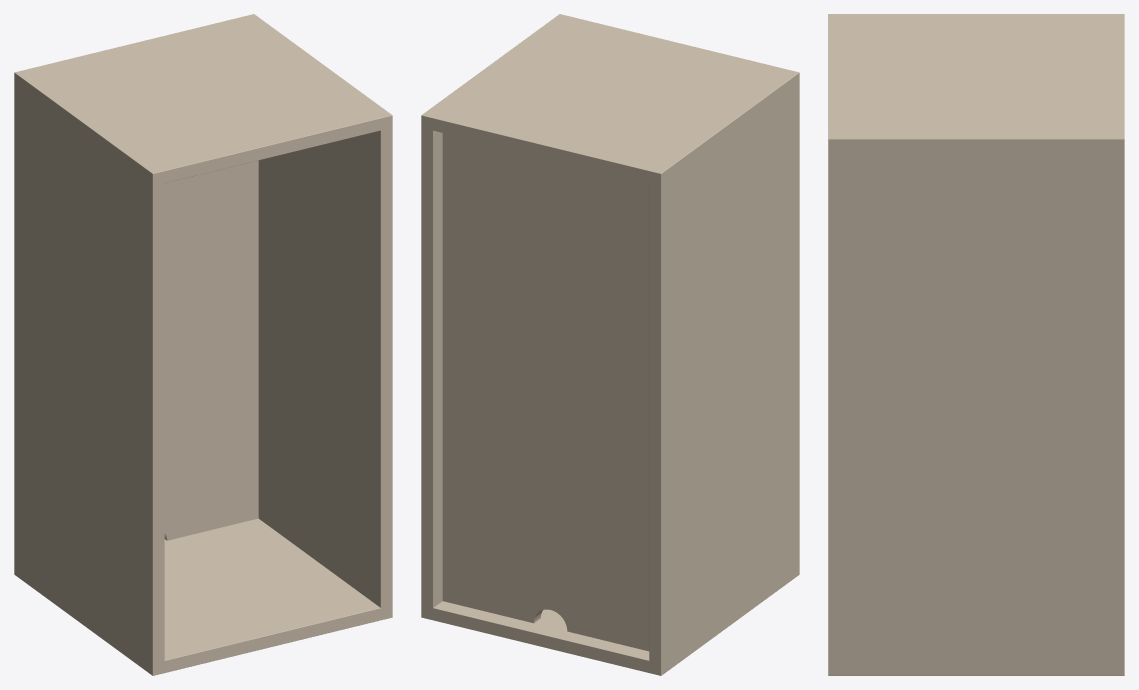
File: MOD-1X2-A-B-AP-AR.glb
3 views of the same model, side by side, from view 1: azimuth 30°, elevation 25°; view 2: azimuth 150°, elevation 25°; view 3: azimuth 270°, elevation 25° (orthographic). The views are drawn at different scales.
Size of the model in its own units: 360 by 720 by 360.
